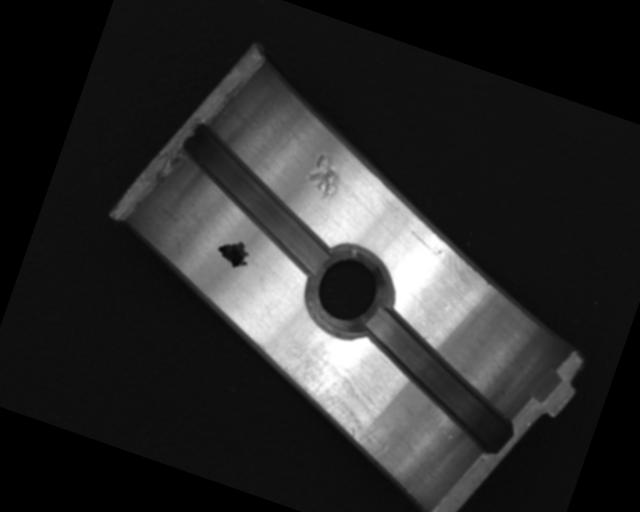blot: (212, 231, 255, 272)
bruise: (298, 149, 349, 206)
gap: (341, 299, 541, 458), (158, 120, 355, 277)
hole: (299, 235, 398, 348)
scratch: (252, 327, 414, 464)
